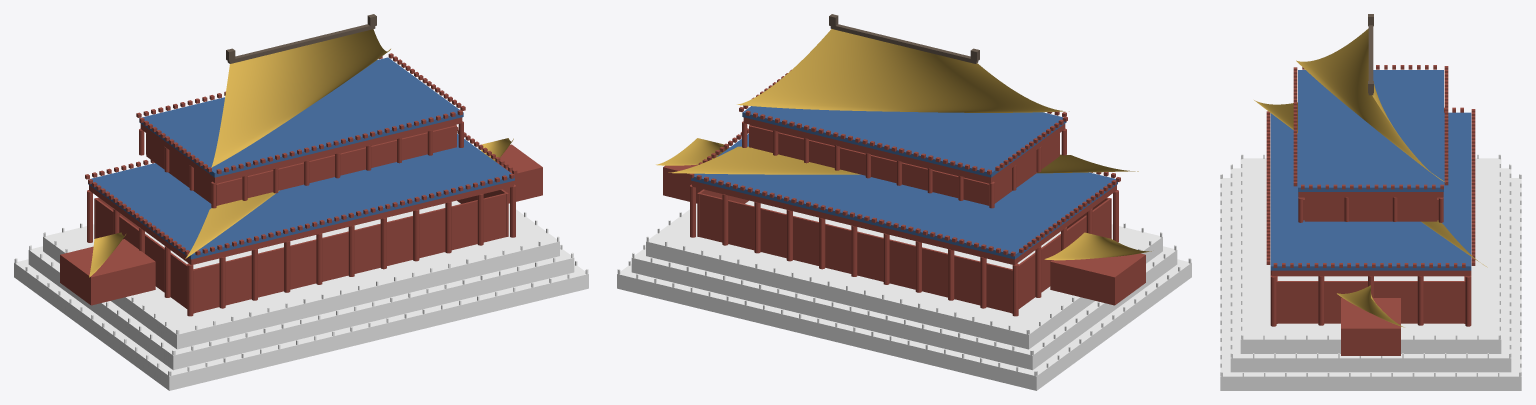
The model's file is taihedian.glb.
3 renders of one model, left to right at view 1: azimuth 30°, elevation 25°; view 2: azimuth 150°, elevation 25°; view 3: azimuth 270°, elevation 25°, orthographic. The views are drawn at different scales.
Parts seen in each view (by area): view 1: taihedian; view 2: taihedian; view 3: taihedian.
Part boxes in pixels (x1=…): taihedian: x1=14, y1=14, x2=588, y2=390; taihedian: x1=617, y1=14, x2=1191, y2=390; taihedian: x1=1220, y1=14, x2=1521, y2=390.
Bounding box in the file's own units: 86 × 45.4 × 50.
